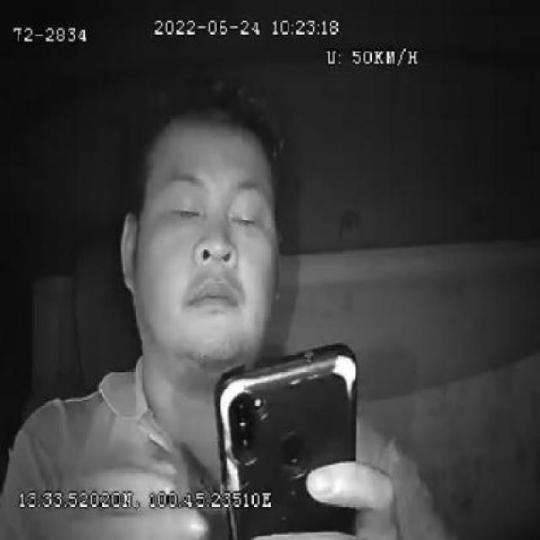phone: (216, 340, 358, 540)
